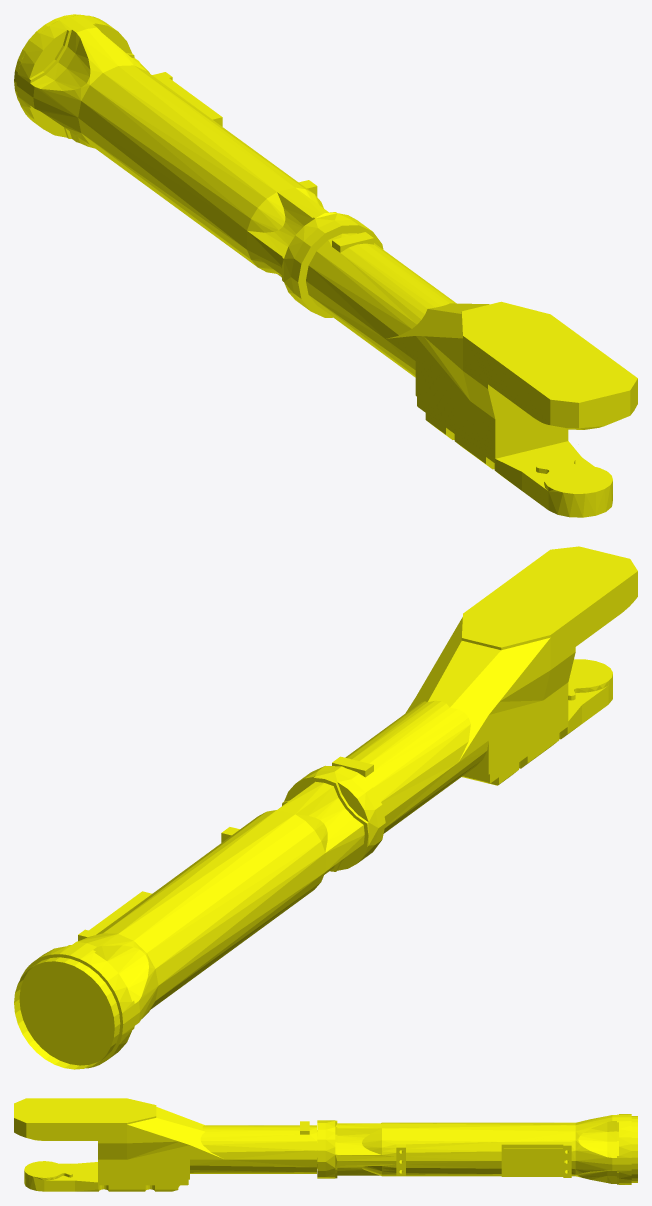
The picture shows the model from 3 angles, top to bottom: view 1: azimuth 30°, elevation 25°; view 2: azimuth 150°, elevation 25°; view 3: azimuth 270°, elevation 25°; orthographic projection. The views are drawn at different scales.
Visible parts, largest first — view 1: node; view 2: node; view 3: node.
Boxes of the visible parts, bbox=[...] form: node: bbox=[14, 14, 637, 517]; node: bbox=[14, 546, 637, 1069]; node: bbox=[14, 1098, 637, 1191].
Bounding box in the file's own units: 146 × 164 × 1281.
